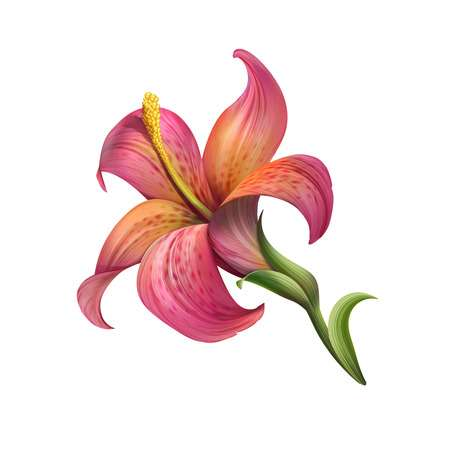Hibiscus: (75, 47, 349, 350)
